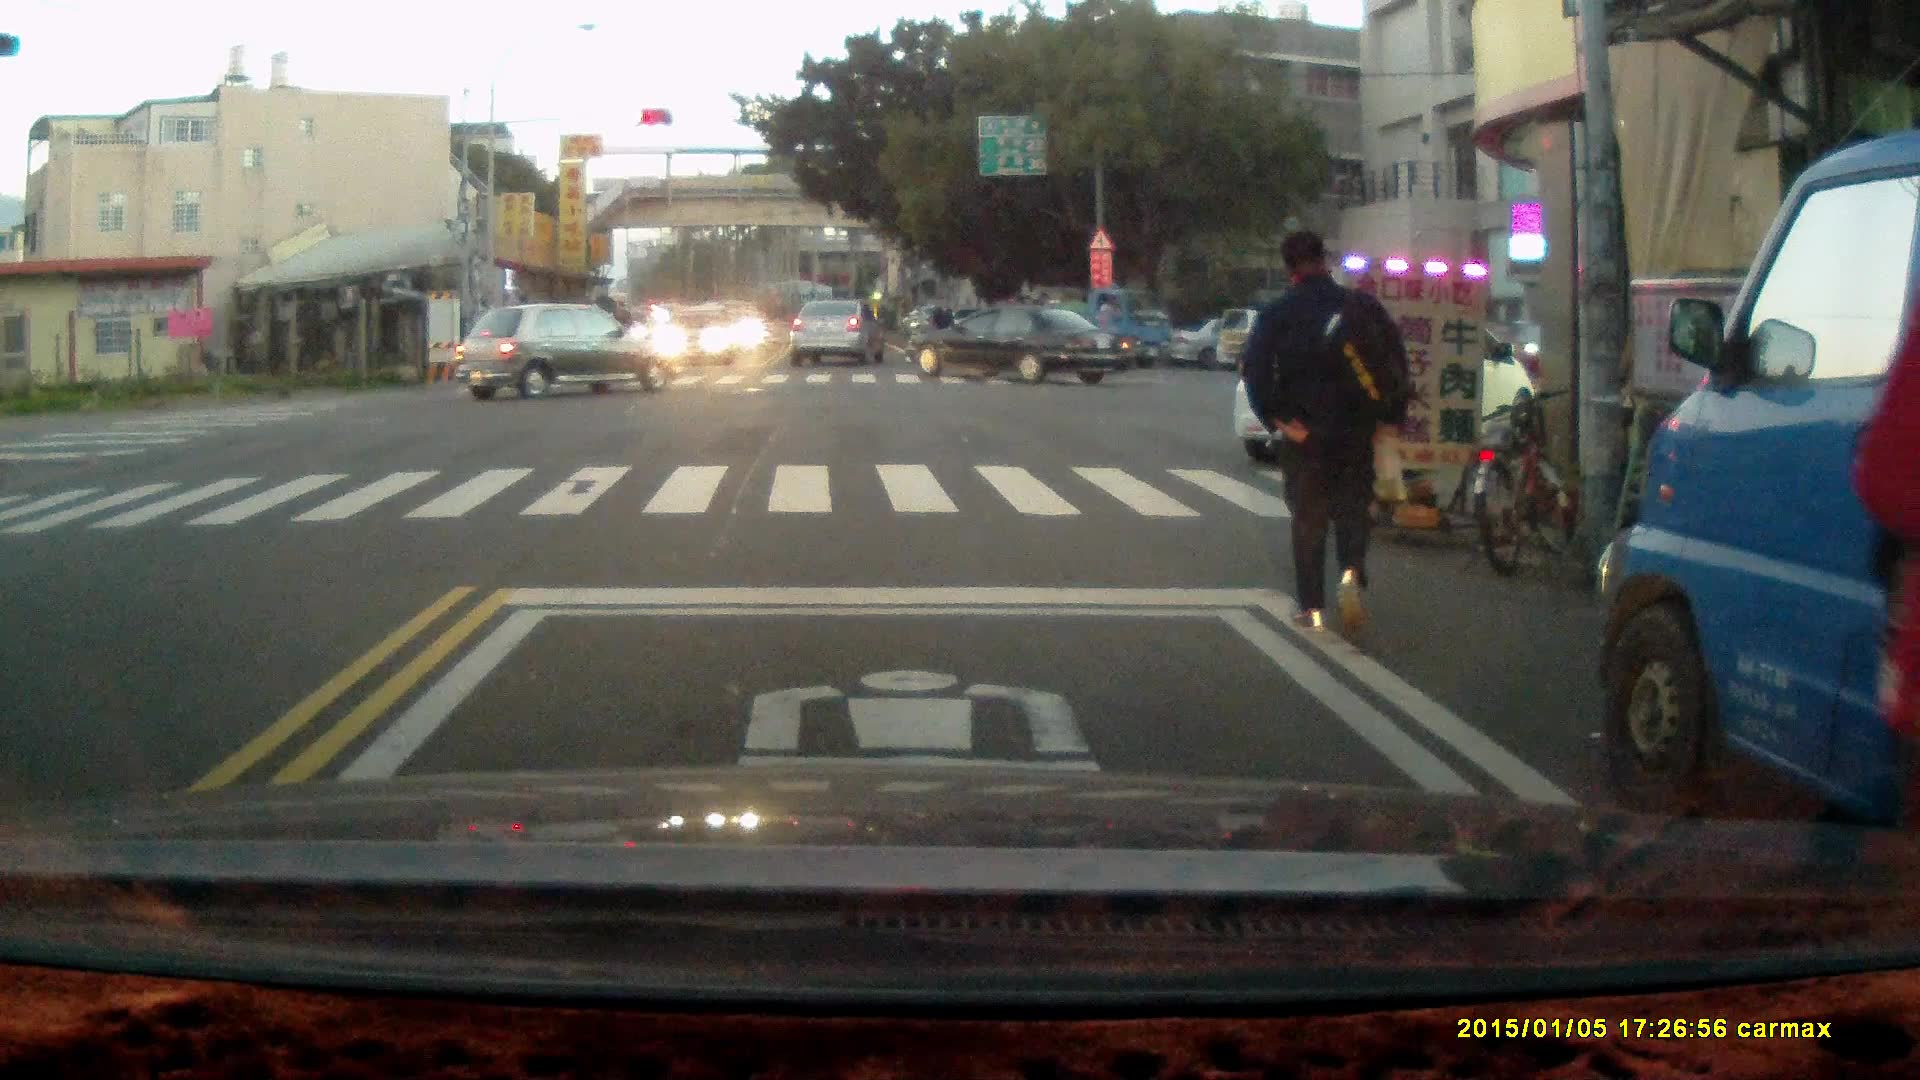pedestrian: (1241, 230, 1411, 649), (932, 293, 953, 354)
vehicle: (1598, 132, 1920, 852), (1233, 296, 1533, 459), (450, 305, 678, 403), (904, 303, 1140, 384), (792, 300, 886, 370)
